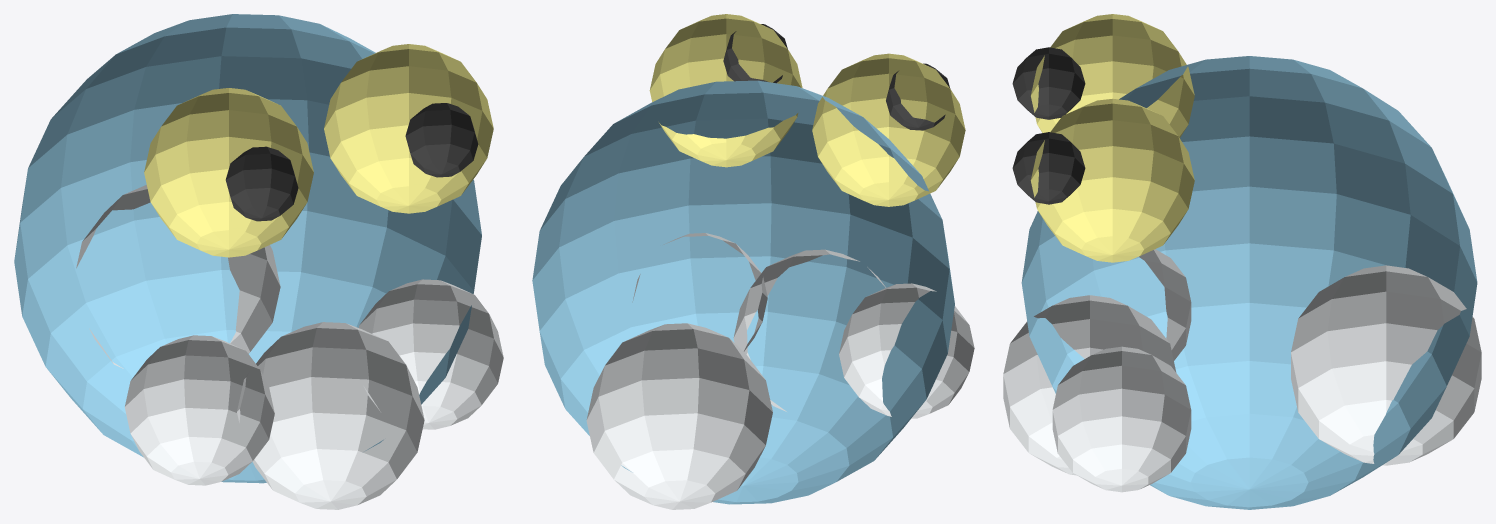
The model's file is froakie.glb.
The picture shows the model from 3 angles, left to right: view 1: azimuth 30°, elevation 25°; view 2: azimuth 150°, elevation 25°; view 3: azimuth 270°, elevation 25°; orthographic projection. The views are drawn at different scales.
Parts seen in each view (by area): view 1: BodyNode, Frubble1Node, EyeRNode, EyeLNode, Frubble2Node, Frubble3Node, Frubble4Node, PupilLNode, PupilRNode; view 2: BodyNode, Frubble4Node, EyeLNode, EyeRNode, Frubble2Node, Frubble1Node, PupilLNode, Frubble3Node, PupilRNode; view 3: BodyNode, Frubble4Node, EyeRNode, Frubble3Node, Frubble1Node, EyeLNode, PupilLNode, PupilRNode, Frubble2Node.
Part boxes in pixels (box(x1,y1,x2,y2)): BodyNode: box(14, 14, 481, 483); Frubble1Node: box(237, 322, 424, 509); EyeRNode: box(324, 44, 493, 213); EyeLNode: box(144, 88, 313, 257); Frubble2Node: box(124, 335, 274, 485); Frubble3Node: box(358, 279, 503, 429); Frubble4Node: box(76, 185, 280, 368); PupilLNode: box(225, 146, 298, 221); PupilRNode: box(405, 103, 478, 177); BodyNode: box(532, 80, 954, 504); Frubble4Node: box(586, 323, 772, 509); EyeLNode: box(812, 53, 965, 206); EyeRNode: box(649, 14, 802, 167); Frubble2Node: box(839, 283, 974, 418); Frubble1Node: box(733, 249, 885, 411); PupilLNode: box(886, 63, 950, 130); Frubble3Node: box(632, 233, 767, 351); PupilRNode: box(723, 24, 787, 83); BodyNode: box(1021, 56, 1477, 509); Frubble4Node: box(1291, 265, 1481, 465); EyeRNode: box(1030, 98, 1194, 262); Frubble3Node: box(1052, 346, 1191, 492); Frubble1Node: box(1003, 295, 1176, 475); EyeLNode: box(1031, 14, 1194, 137); PupilLNode: box(1012, 47, 1085, 119); PupilRNode: box(1012, 132, 1085, 204); Frubble2Node: box(1139, 249, 1191, 360).
Bounding box in the file's own units: 1 × 1.03 × 1.05.
